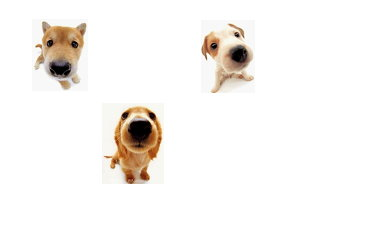dog: (107, 106, 166, 183), (198, 23, 257, 92), (35, 19, 90, 87)
